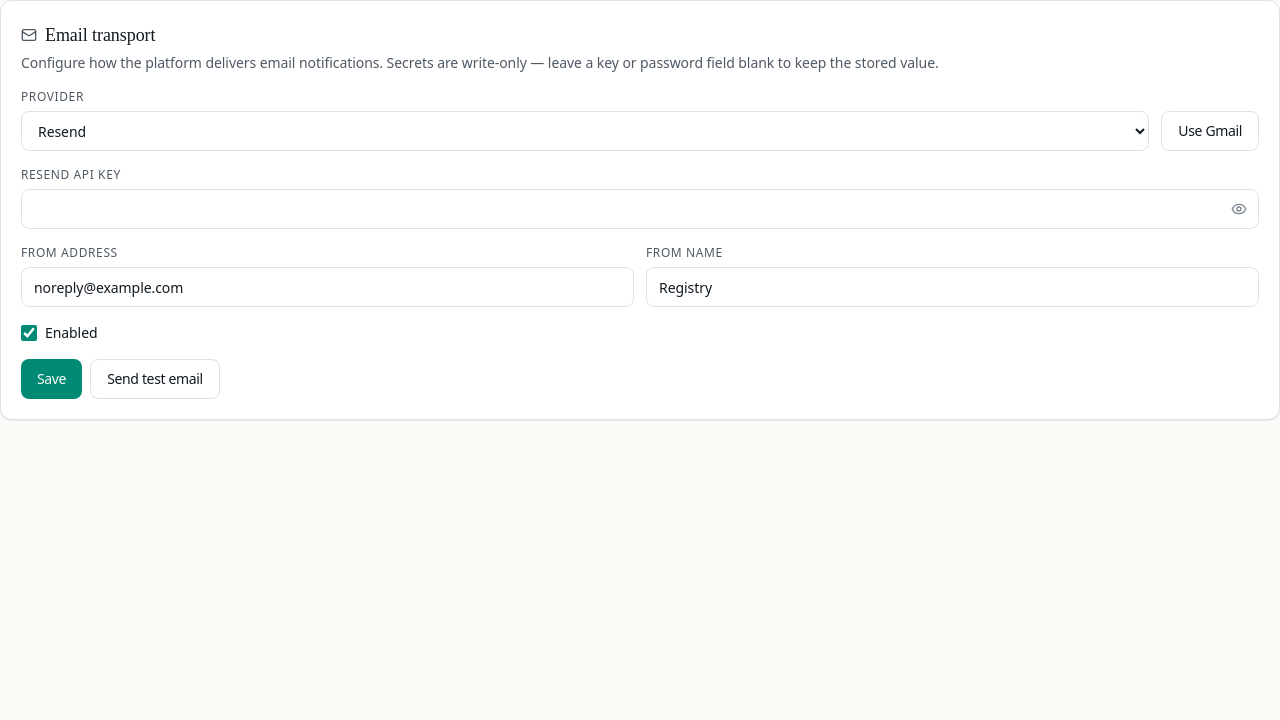
it: EmailTransportPanel › switches to SMTP + Gmail presets when 'Use Gmail' is clicked
Expected: the dropdown labelled "Provider" is shown, [21, 111, 1149, 151]
Click the button "Use Gmail" at (1210, 131), box [1161, 111, 1259, 151]
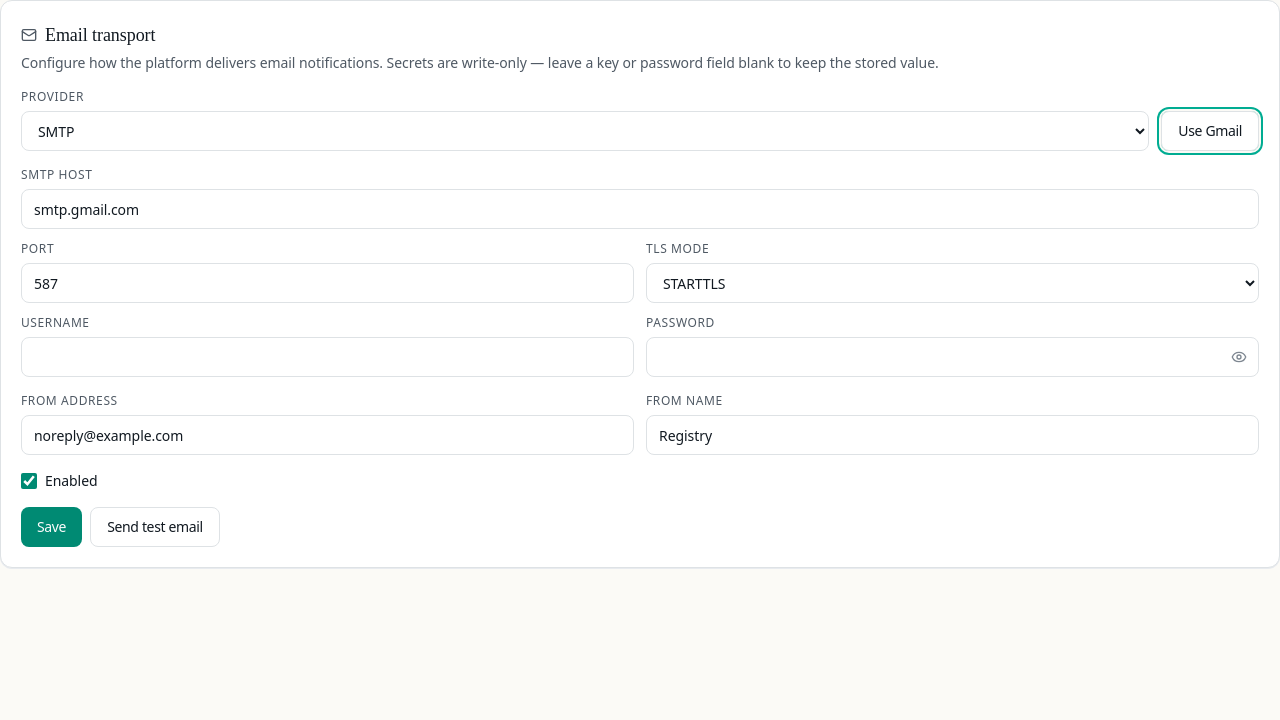
Expected: the dropdown labelled "Provider" shows "SMTP", [21, 111, 1149, 151]
Expected: the field labelled "SMTP host" holds "smtp.gmail.com", [21, 189, 1259, 229]
Expected: the number field labelled "Port" holds "587", [21, 263, 634, 303]
